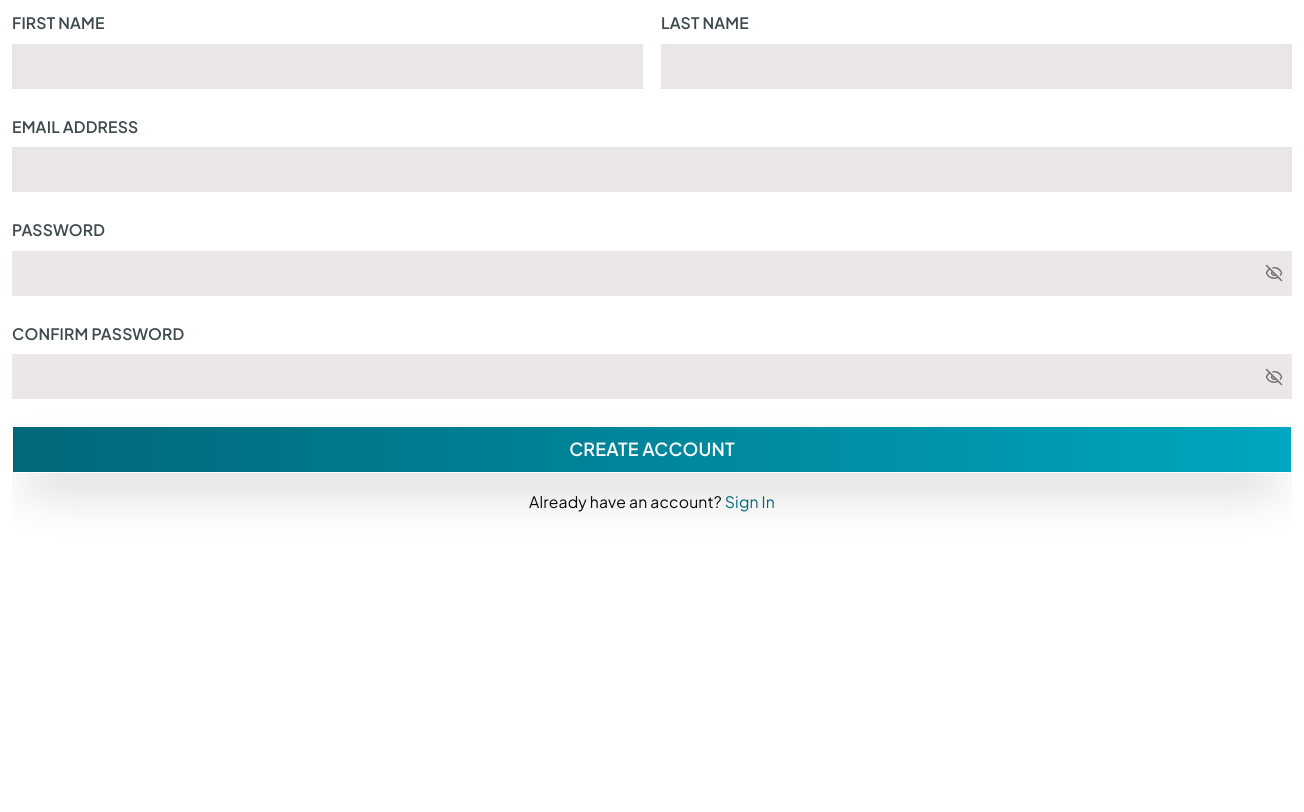
Test case: SignUpForm › shows required errors on empty submit
The image size is (1304, 812).
Click the button "Create Account" at coordinates (652, 450), box [12, 426, 1292, 473]
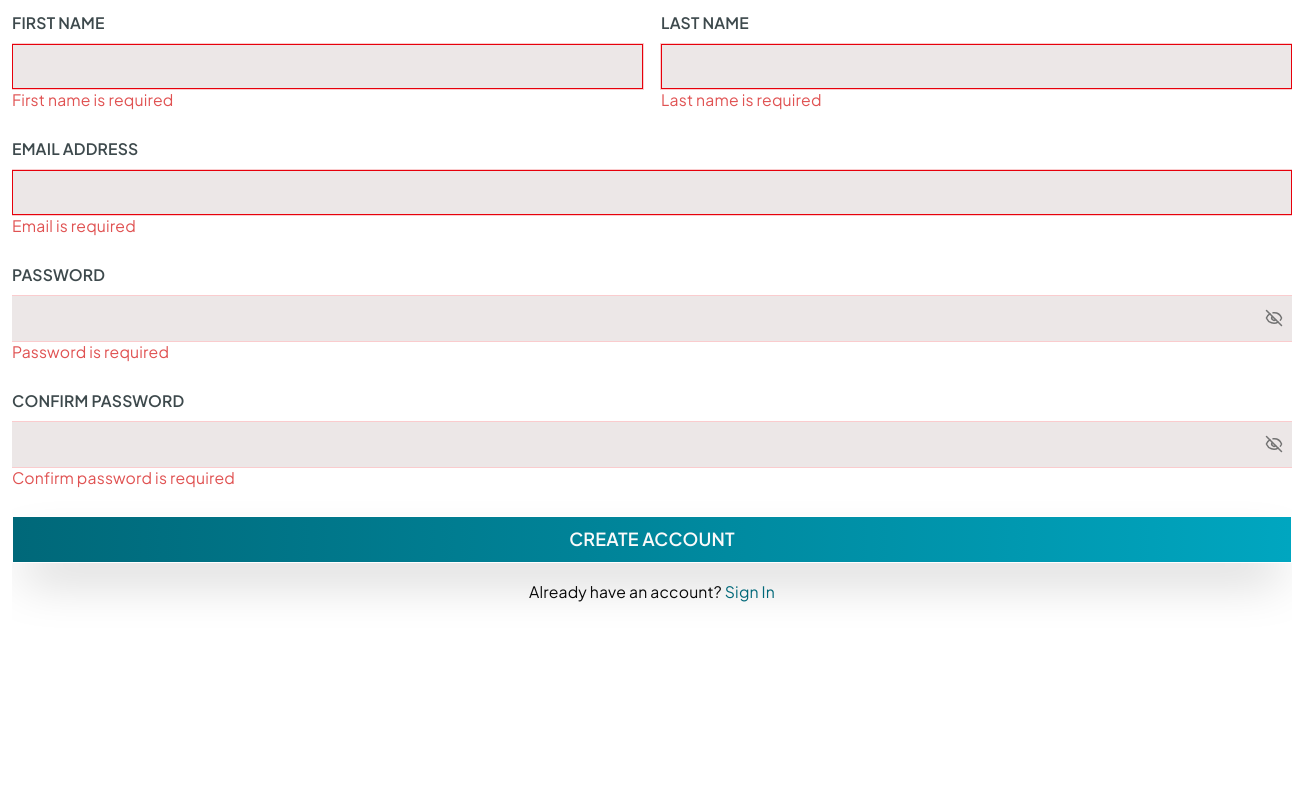
Result: the text "First name is required" is shown at [12, 90, 174, 108]
Result: the text "Last name is required" is shown at [661, 90, 822, 108]
Result: the text "Email is required" is shown at [12, 216, 136, 234]
